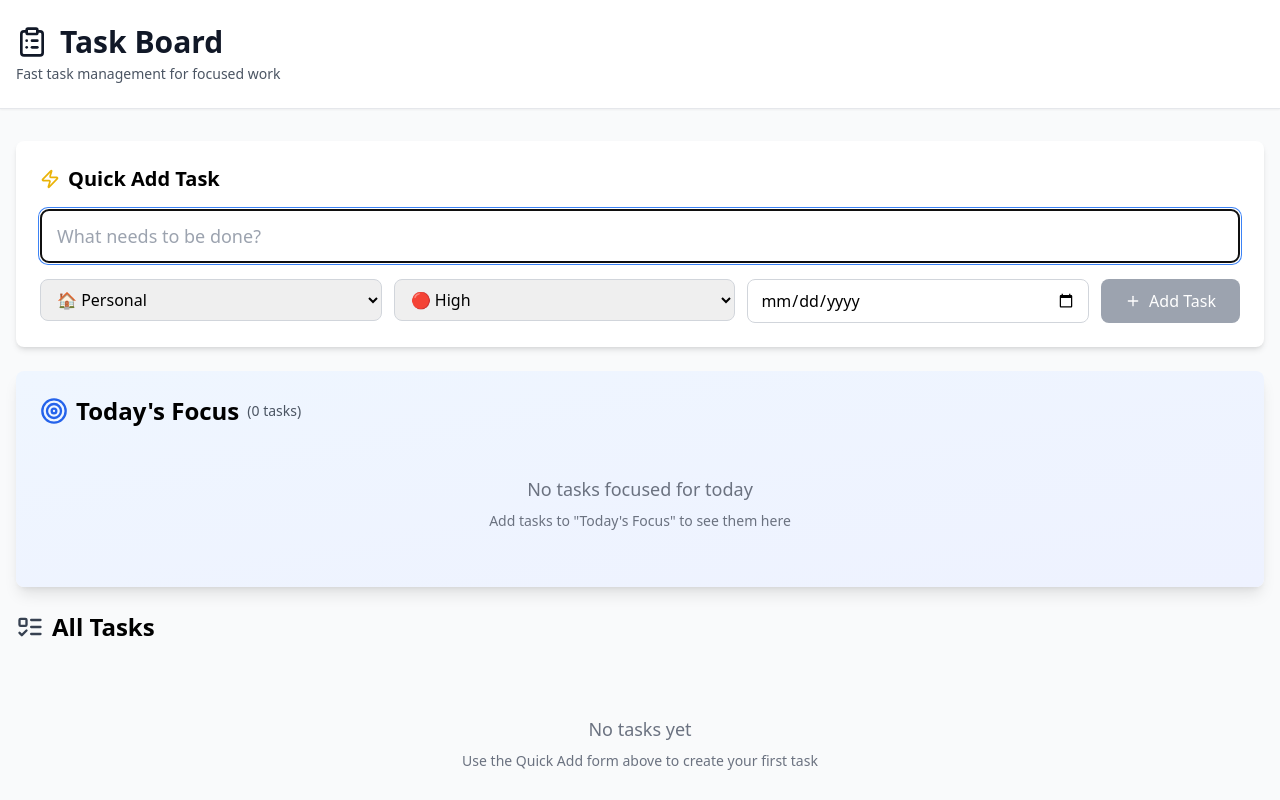
Test: Task Board Integration Tests › Complete Task Workflow › should validate task creation (empty title)
This screenshot has width=1280, height=800.
Expected: the heading "Task Board" is shown, left=16, top=21, right=223, bottom=62
Expected: the button "Add Task" is disabled, left=1101, top=279, right=1240, bottom=323
Note: Type and delete to test validation
Type "Test" into the field with placeholder "What needs to be done?".
click(640, 236); type("Test")  # box left=40, top=209, right=1240, bottom=263
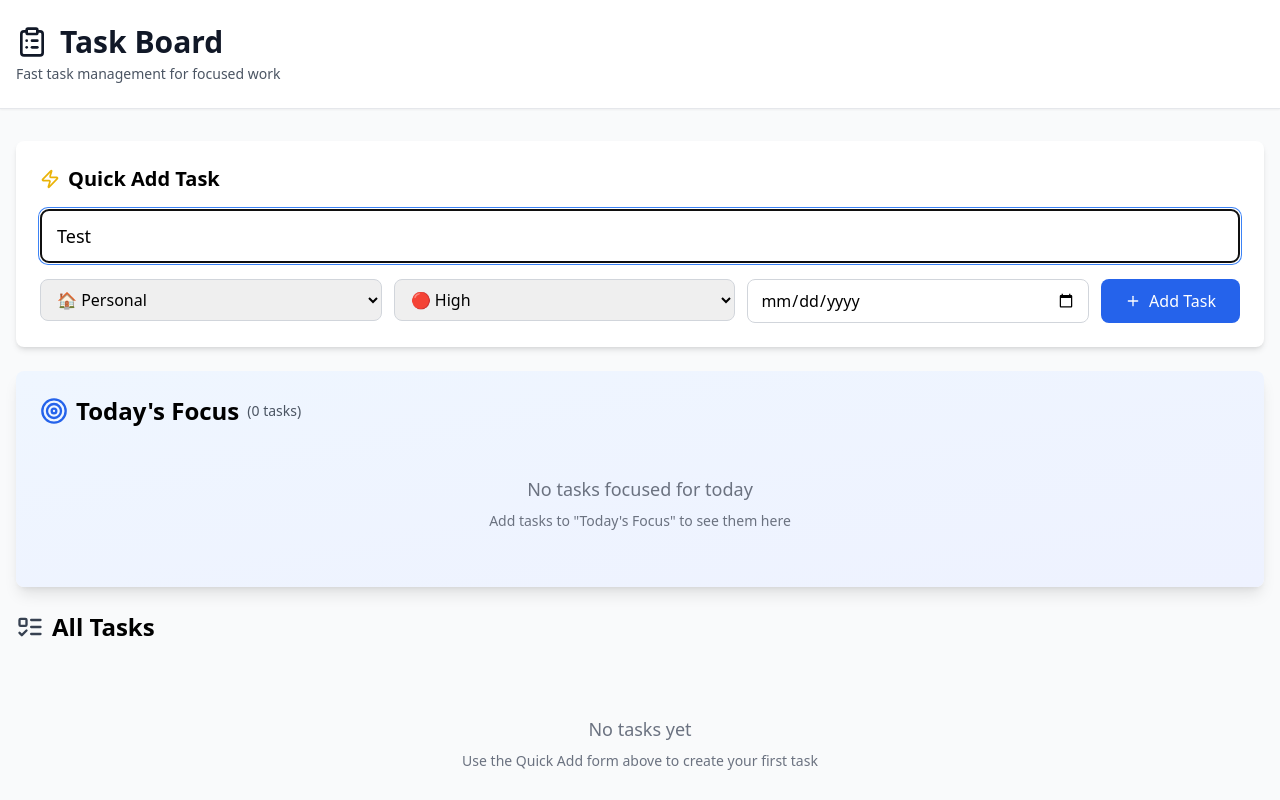
Result: the button "Add Task" is enabled at left=1101, top=279, right=1240, bottom=323
Clear the field with placeholder "What needs to be done?" at (640, 236), box left=40, top=209, right=1240, bottom=263
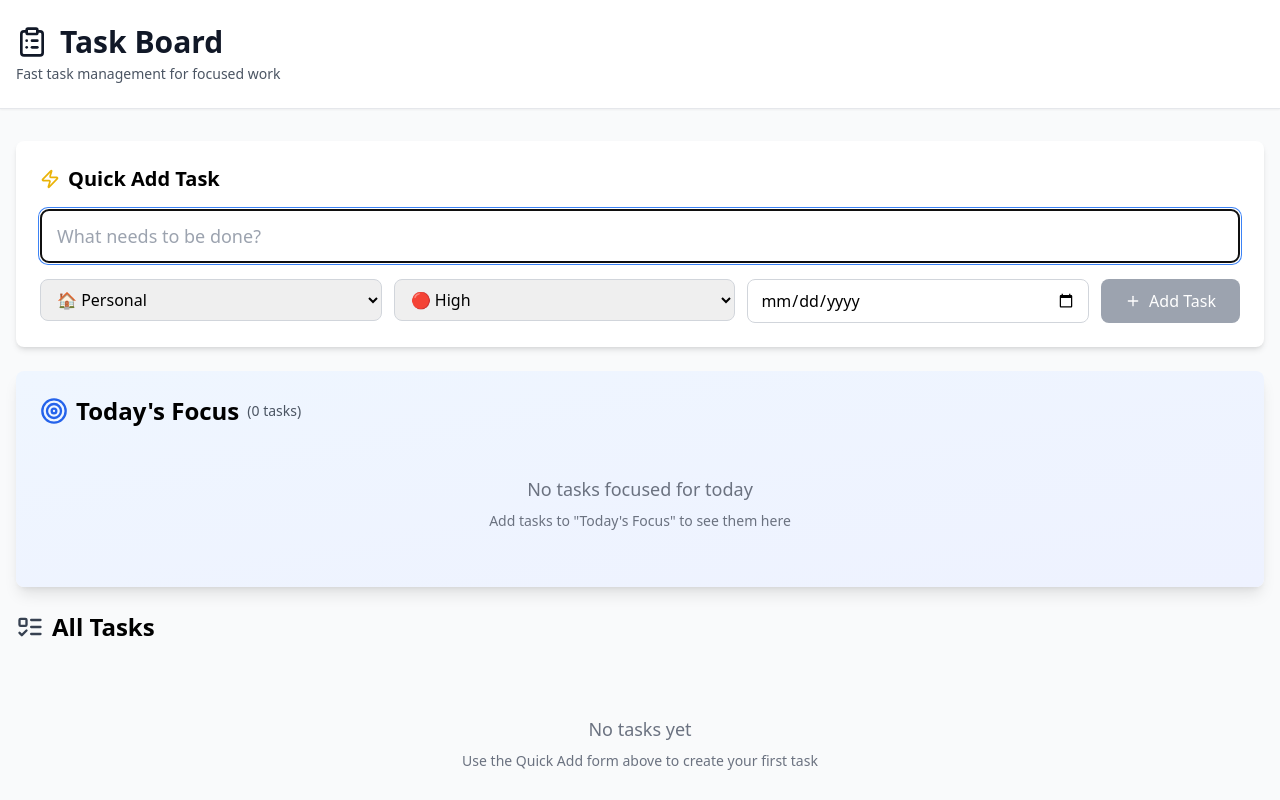
Result: the button "Add Task" is disabled at left=1101, top=279, right=1240, bottom=323
